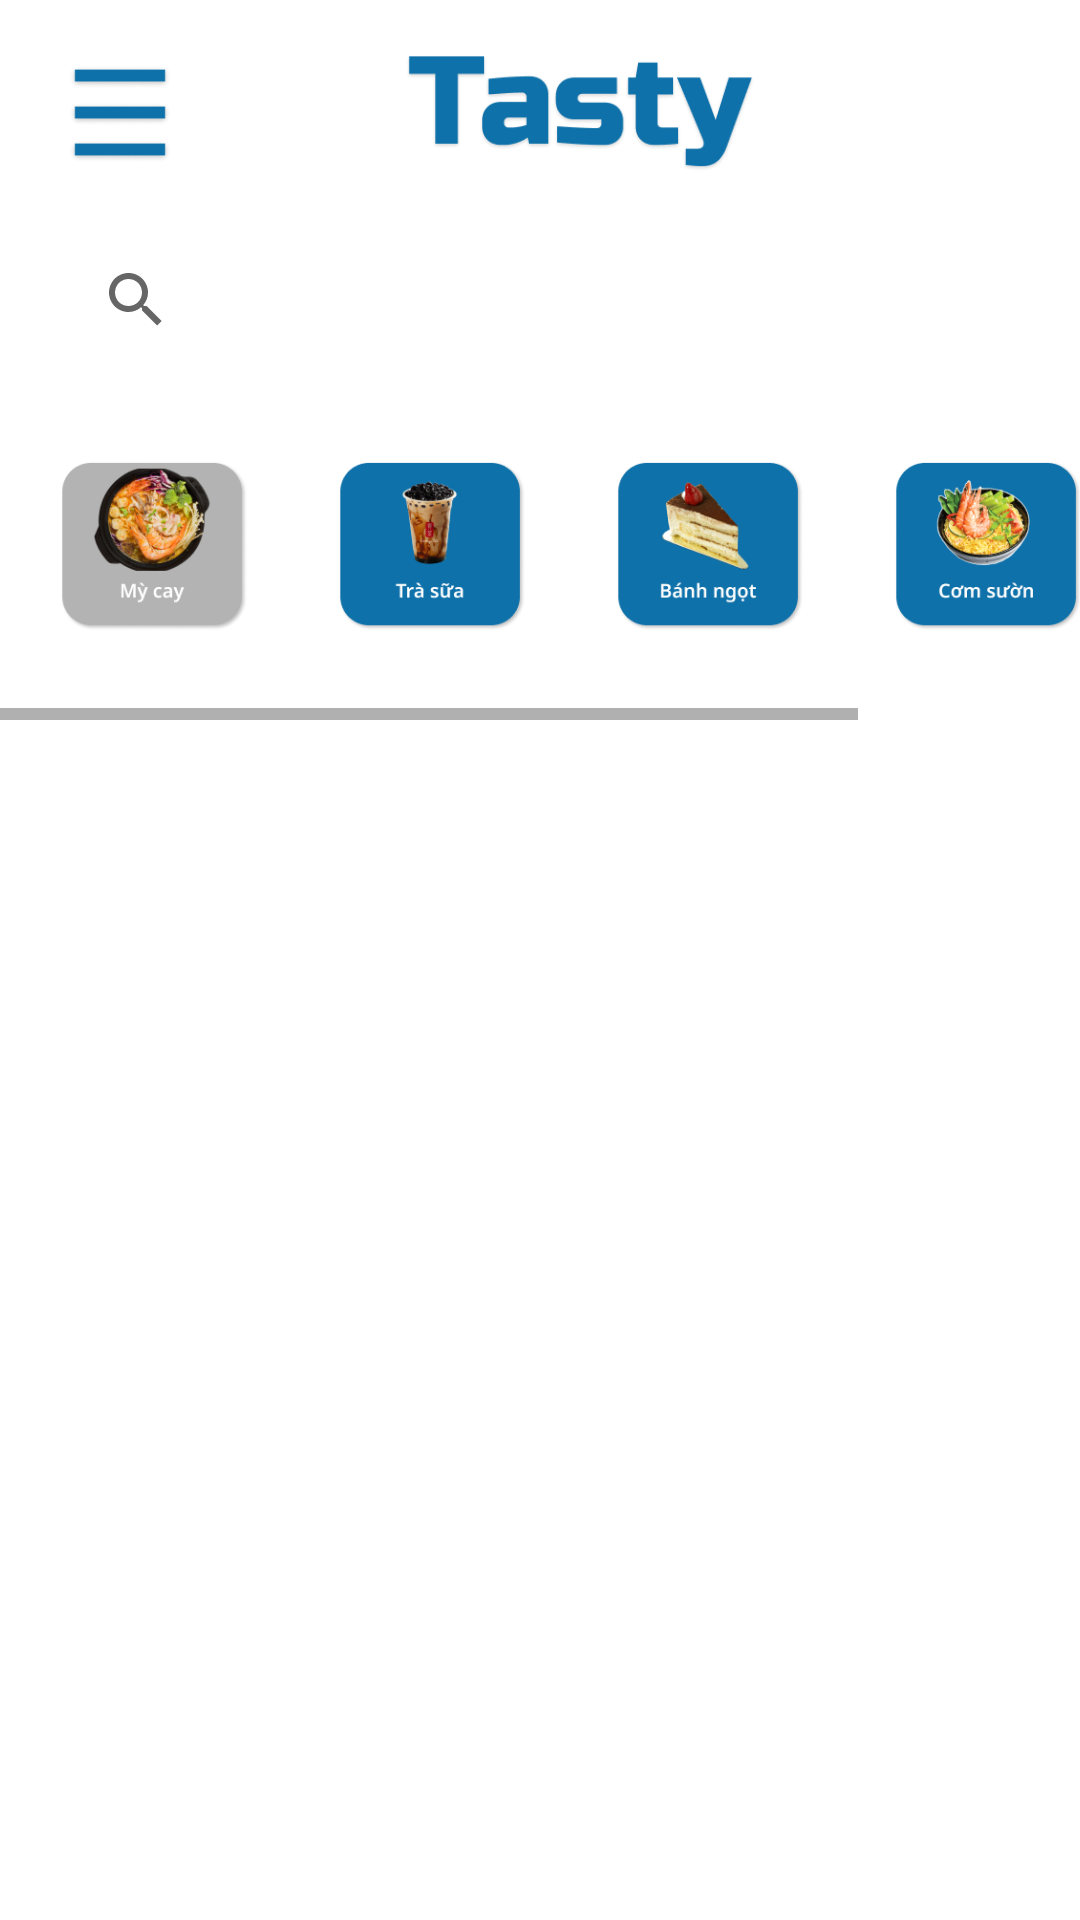

Icon click points for this 1080×1920 phone screenshot, format (x,y):
category: (153,545), (431,545), (709,545), (987,545)
menu: (120,113)
